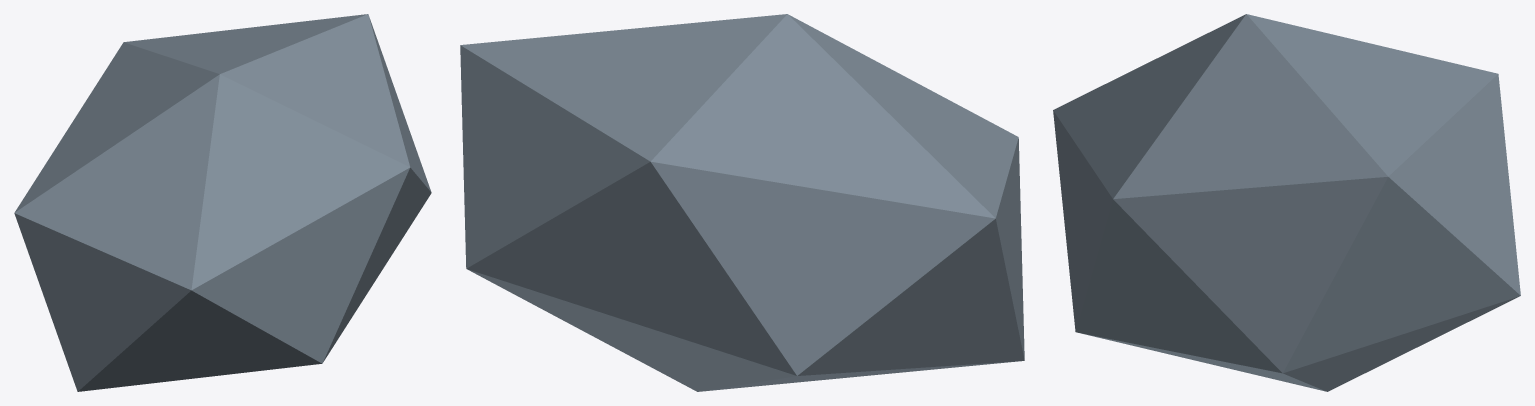
File: INT_A_WallRubble_00_Stone_1.glb
The picture shows the model from 3 angles, left to right: view 1: azimuth 30°, elevation 25°; view 2: azimuth 150°, elevation 25°; view 3: azimuth 270°, elevation 25°; orthographic projection. The views are drawn at different scales.
Visible parts, largest first — view 1: INT_A_WallRubble_00_Stone_1; view 2: INT_A_WallRubble_00_Stone_1; view 3: INT_A_WallRubble_00_Stone_1.
Part boxes in pixels (x1=…): INT_A_WallRubble_00_Stone_1: x1=14, y1=14, x2=431, y2=391; INT_A_WallRubble_00_Stone_1: x1=460, y1=14, x2=1024, y2=391; INT_A_WallRubble_00_Stone_1: x1=1053, y1=14, x2=1520, y2=391.
Size of the model in its own units: 0.6341 by 0.4267 by 0.5104.
